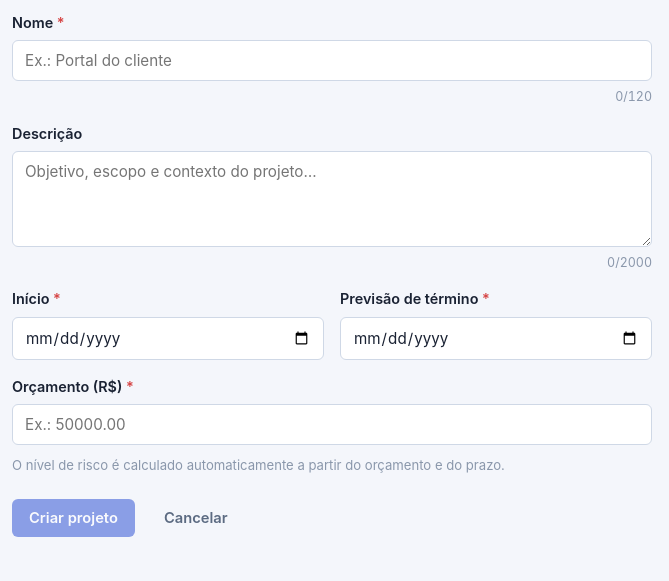
Scenario: ProjectForm › exige término posterior ao início e mantém o envio desabilitado
The image size is (669, 581).
Type "Portal" into the field labelled "Nome *".
click(332, 61); type("Portal")  # box [12, 40, 652, 81]
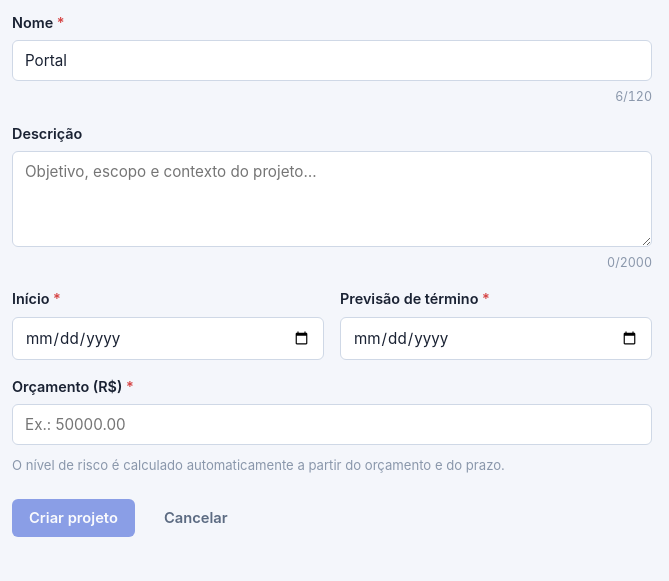
Type "2026-01-01" into the date field labelled "Início *".
click(168, 338); type("2026-01-01")  # box [12, 317, 324, 360]
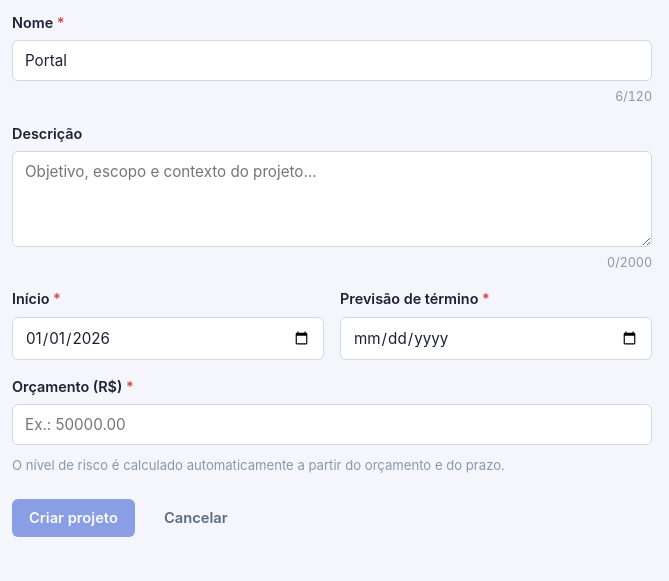
Type "2026-06-01" into the date field labelled "Previsão de término *".
click(496, 338); type("2026-06-01")  # box [340, 317, 652, 360]
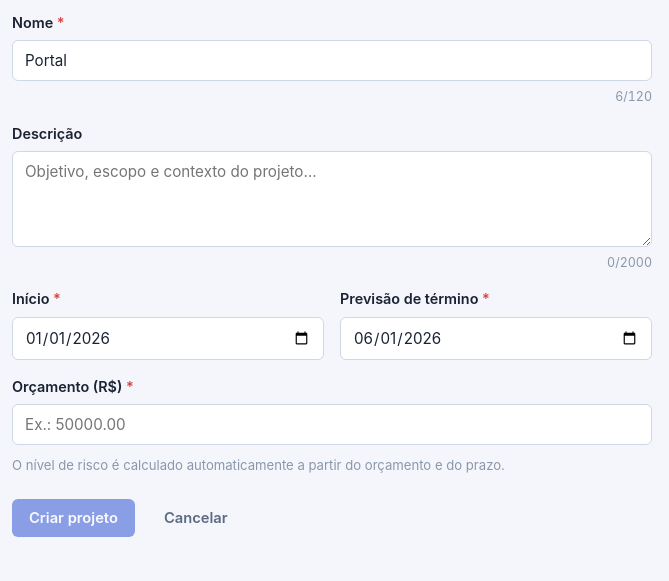
Type "15000.50" into the number field labelled "Orçamento (R$) *".
click(332, 424); type("15000.50")  # box [12, 404, 652, 445]
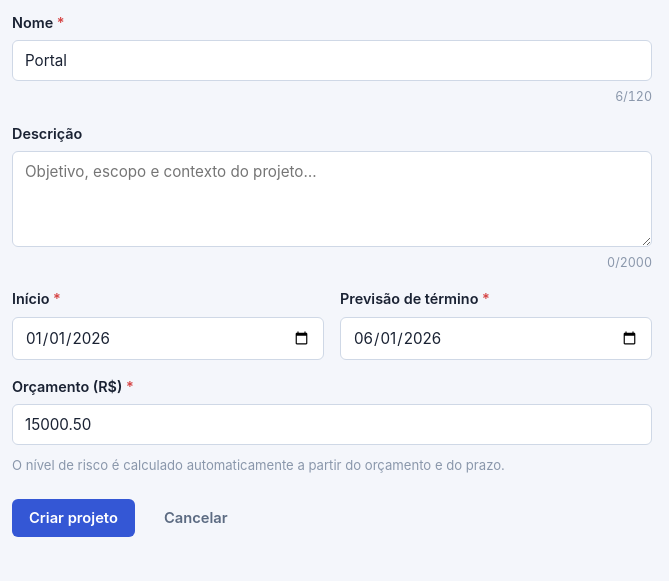
Type "2026-01-01" into the date field labelled "Previsão de término *".
click(496, 338); type("2026-01-01")  # box [340, 317, 652, 360]
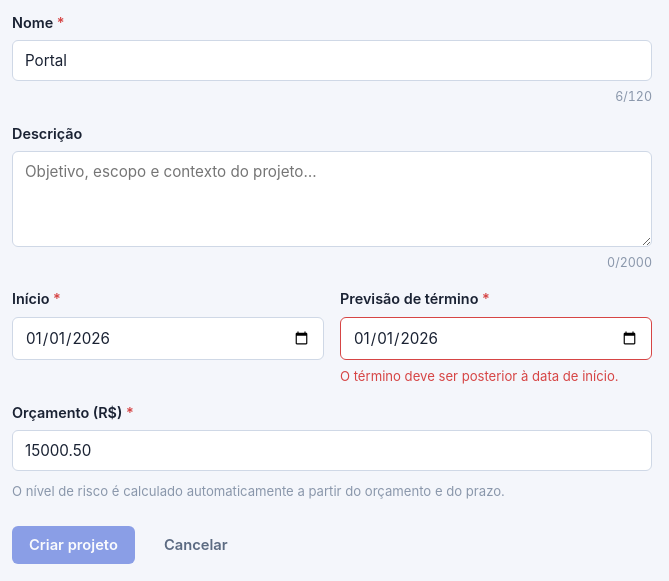
Result: the text "O término deve ser posterior à data de início." is shown at [340, 366, 652, 386]
Result: the button "Criar projeto" is disabled at [12, 526, 135, 564]
